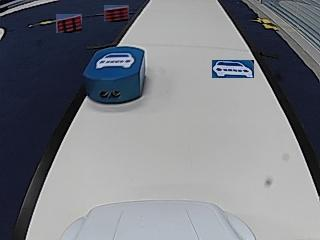safety: (96, 52, 136, 69)
